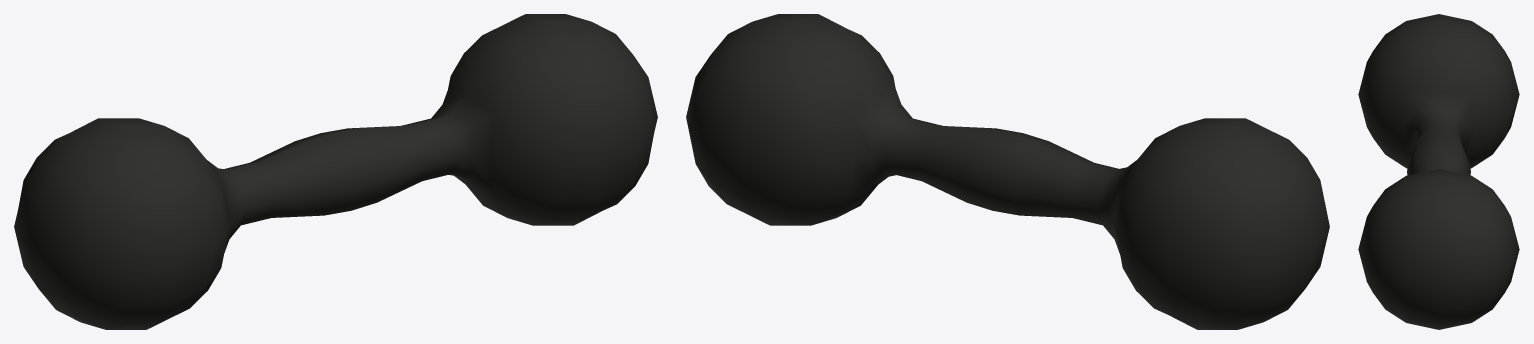
File: dumbbell.glb
The picture shows the model from 3 angles, left to right: view 1: azimuth 30°, elevation 25°; view 2: azimuth 150°, elevation 25°; view 3: azimuth 270°, elevation 25°; orthographic projection. The views are drawn at different scales.
Parts seen in each view (by area): view 1: dumbbell_1_gym_environment_0; view 2: dumbbell_1_gym_environment_0; view 3: dumbbell_1_gym_environment_0.
Boxes of the visible parts, left/top/right/bottom form: dumbbell_1_gym_environment_0: left=14, top=14, right=657, bottom=329; dumbbell_1_gym_environment_0: left=686, top=14, right=1329, bottom=329; dumbbell_1_gym_environment_0: left=1358, top=14, right=1519, bottom=329.
Bounding box in the file's own units: 0.4 × 0.1223 × 0.1223.
Materials: 1 (1 with a texture image).
